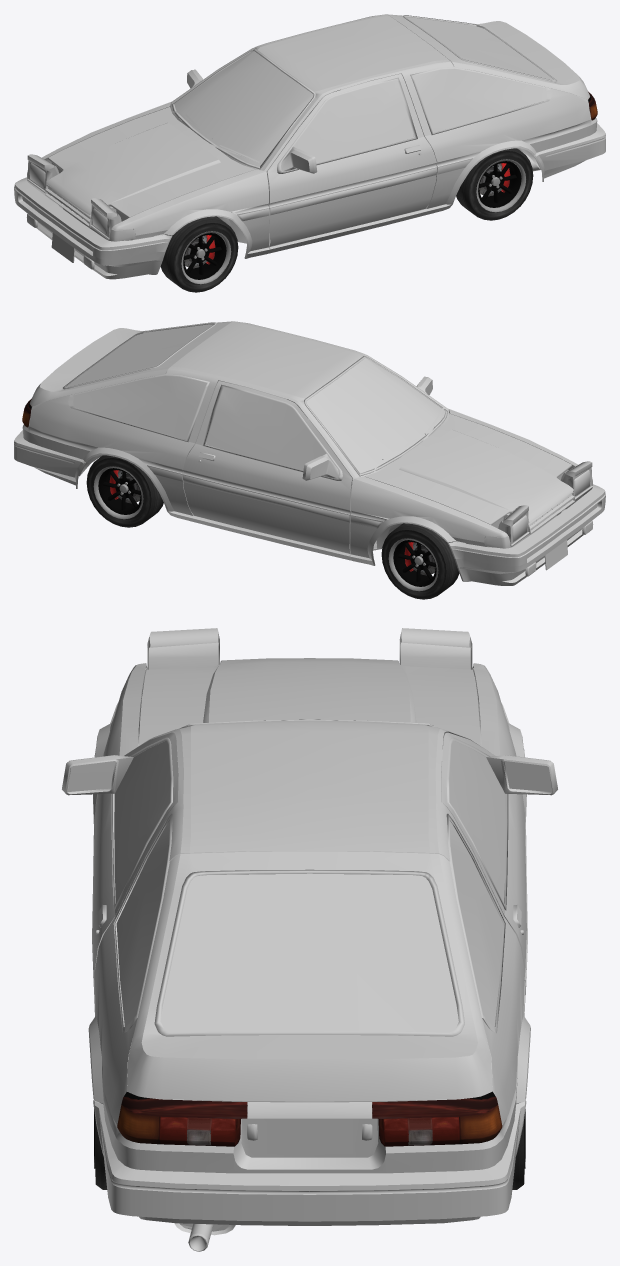
File: NiceCarCollapse.fbx
The picture shows the model from 3 angles, top to bottom: view 1: azimuth 30°, elevation 25°; view 2: azimuth 150°, elevation 25°; view 3: azimuth 270°, elevation 25°; orthographic projection. The views are drawn at different scales.
Visible parts, largest first — view 1: trunk_door, wheel_front_left, wheel_rear_left; view 2: trunk_door, wheel_front_right, wheel_rear_right; view 3: trunk_door.
Boxes of the visible parts, x1,y1,x2,y2 form: trunk_door: (14, 14, 605, 279); wheel_front_left: (160, 216, 238, 292); wheel_rear_left: (456, 148, 533, 220); trunk_door: (14, 321, 605, 585); wheel_front_right: (381, 523, 459, 599); wheel_rear_right: (86, 455, 163, 527); trunk_door: (62, 628, 557, 1251).
Size of the model in its own units: 2926 by 845 by 1229.
